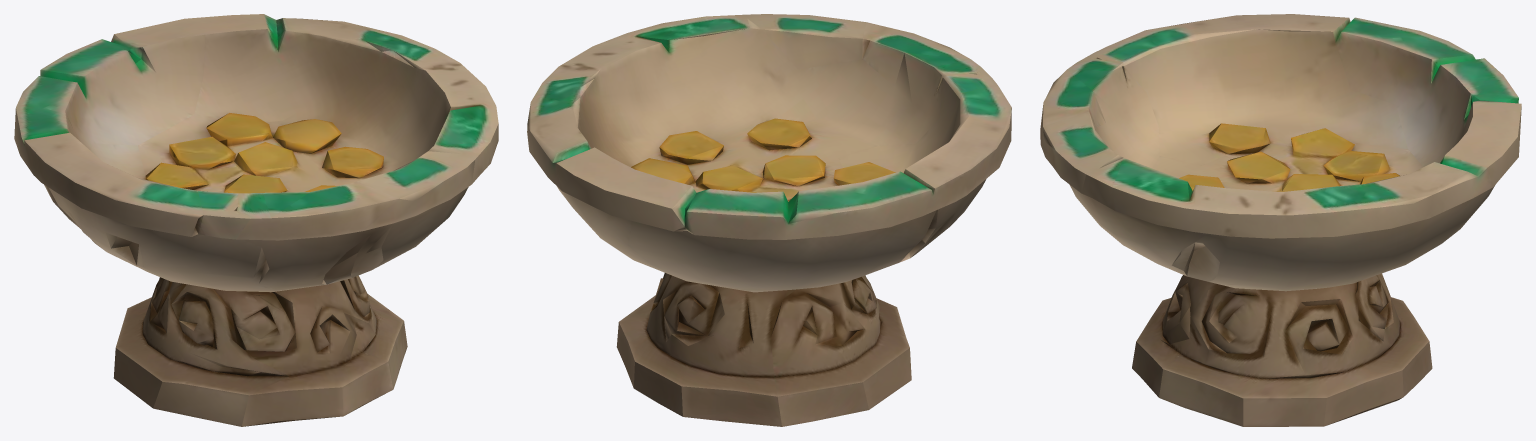
Rendered from m2OfferingBowl.glb.
The picture shows the model from 3 angles, left to right: view 1: azimuth 30°, elevation 25°; view 2: azimuth 150°, elevation 25°; view 3: azimuth 270°, elevation 25°; orthographic projection.
Parts seen in each view (by area): view 1: model; view 2: model; view 3: model.
Part boxes in pixels (x1,y1,x2,y2): model: (14,14,498,426); model: (527,14,1011,426); model: (1040,14,1521,426).
Size of the model in its own units: 1.88 by 1.11 by 1.9.
Materials: 1 (1 with a texture image).
